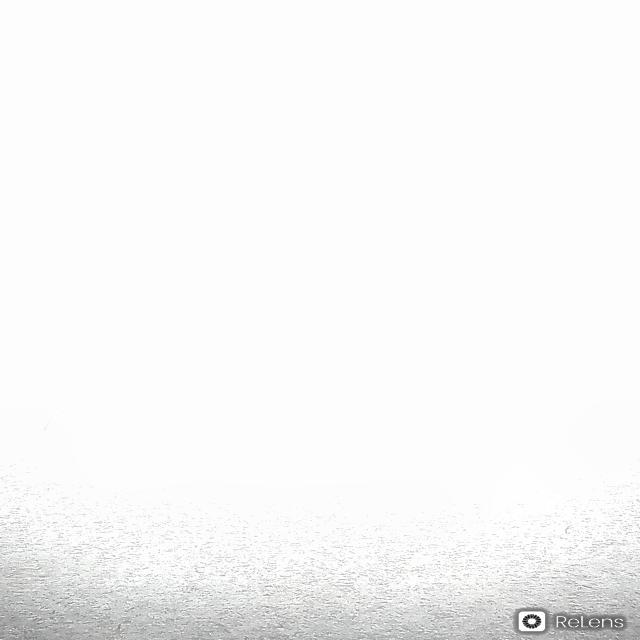Empty: (0, 0, 640, 605)
